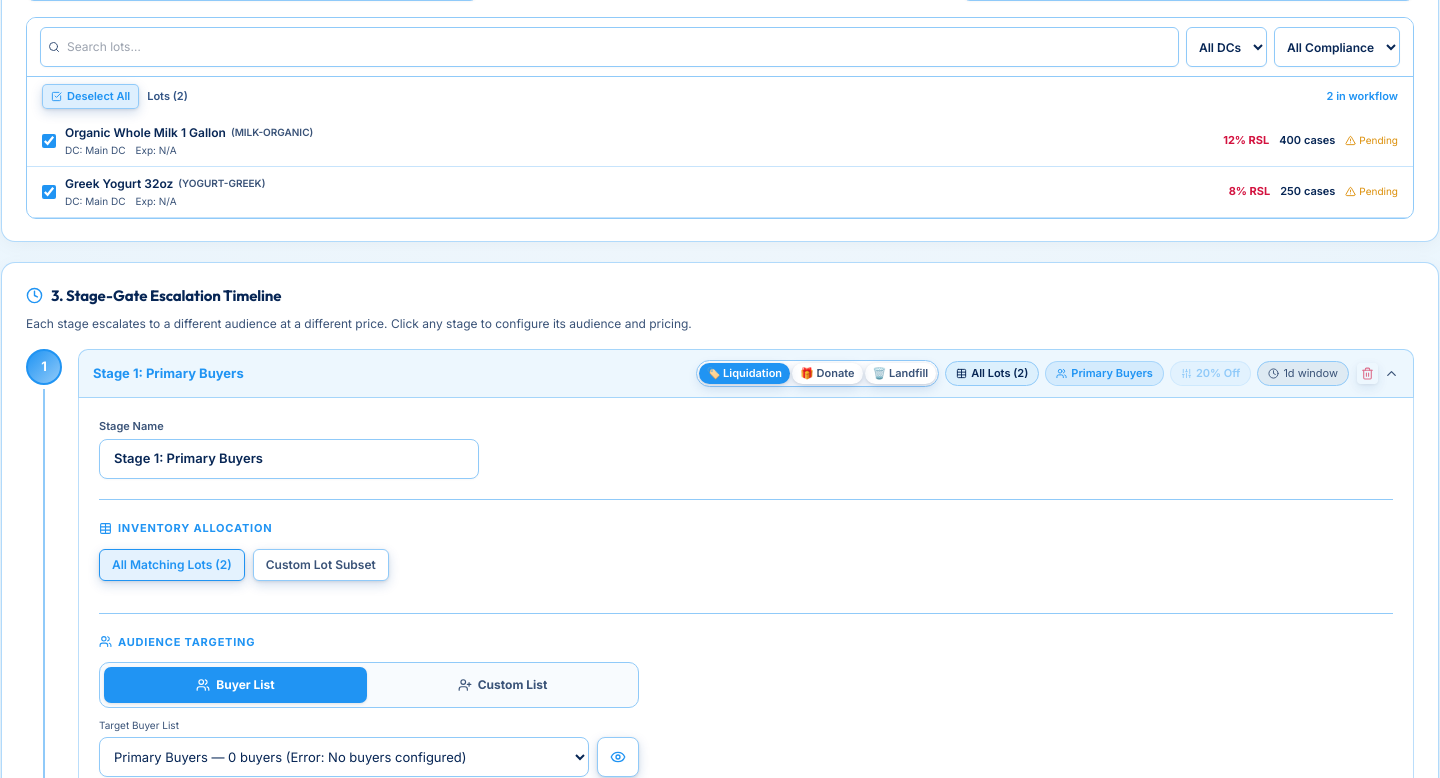
Slice 3: Context-Aware Stage Email Presets & Dynamic Token Interpolation › pre-populates Landfill email template and subject when opening StageEmailModal for a Landfill stage
The image size is (1440, 778).
(page scrolled)
# Switch Stage 1 to Landfill
Click the button with test id "stage-1-type-landfill": [900, 373] box [864,363,936,384]
(page scrolled)
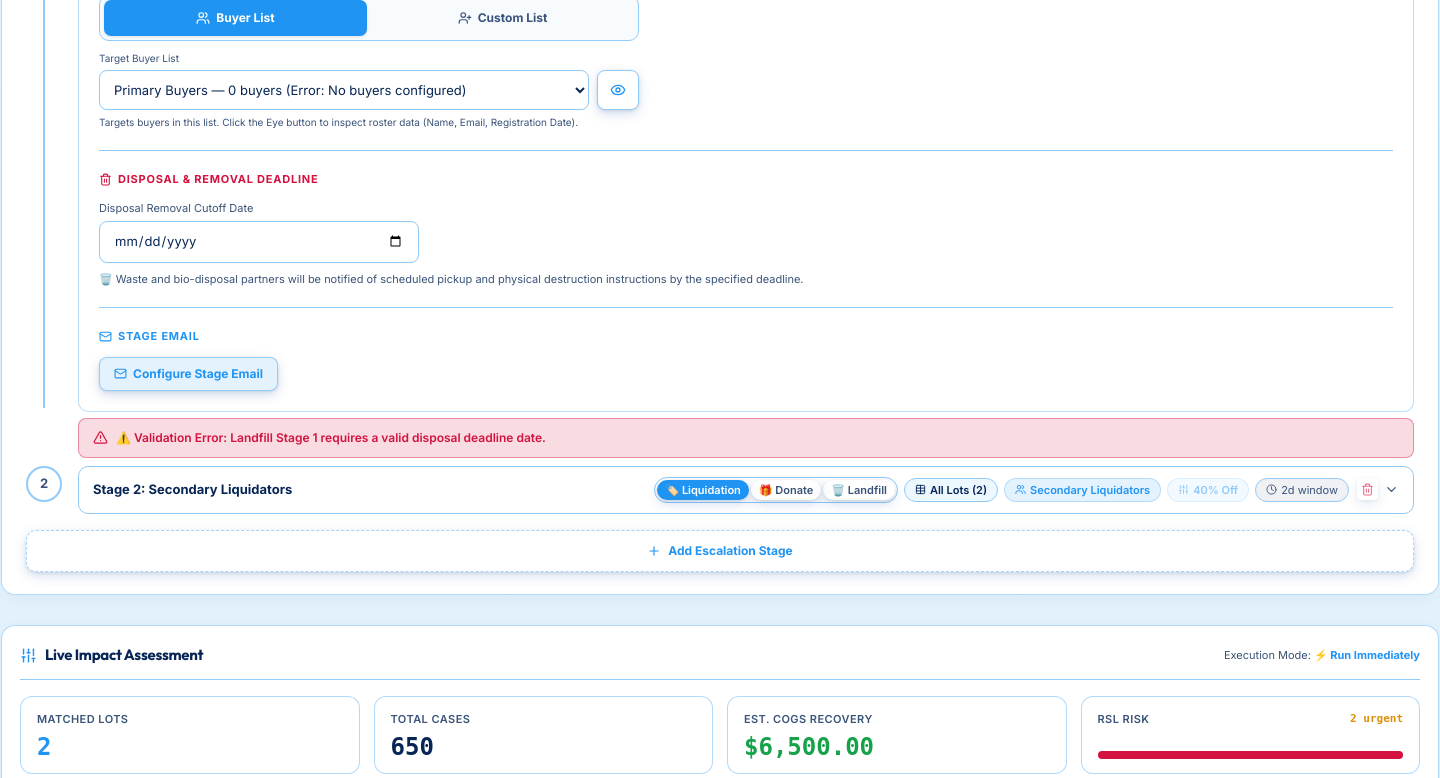
# Stage 1 is expanded by default, open Configure Stage Email modal
Click the button with test id "configure-stage-email-btn-1": [188, 374] box [99,356,278,390]
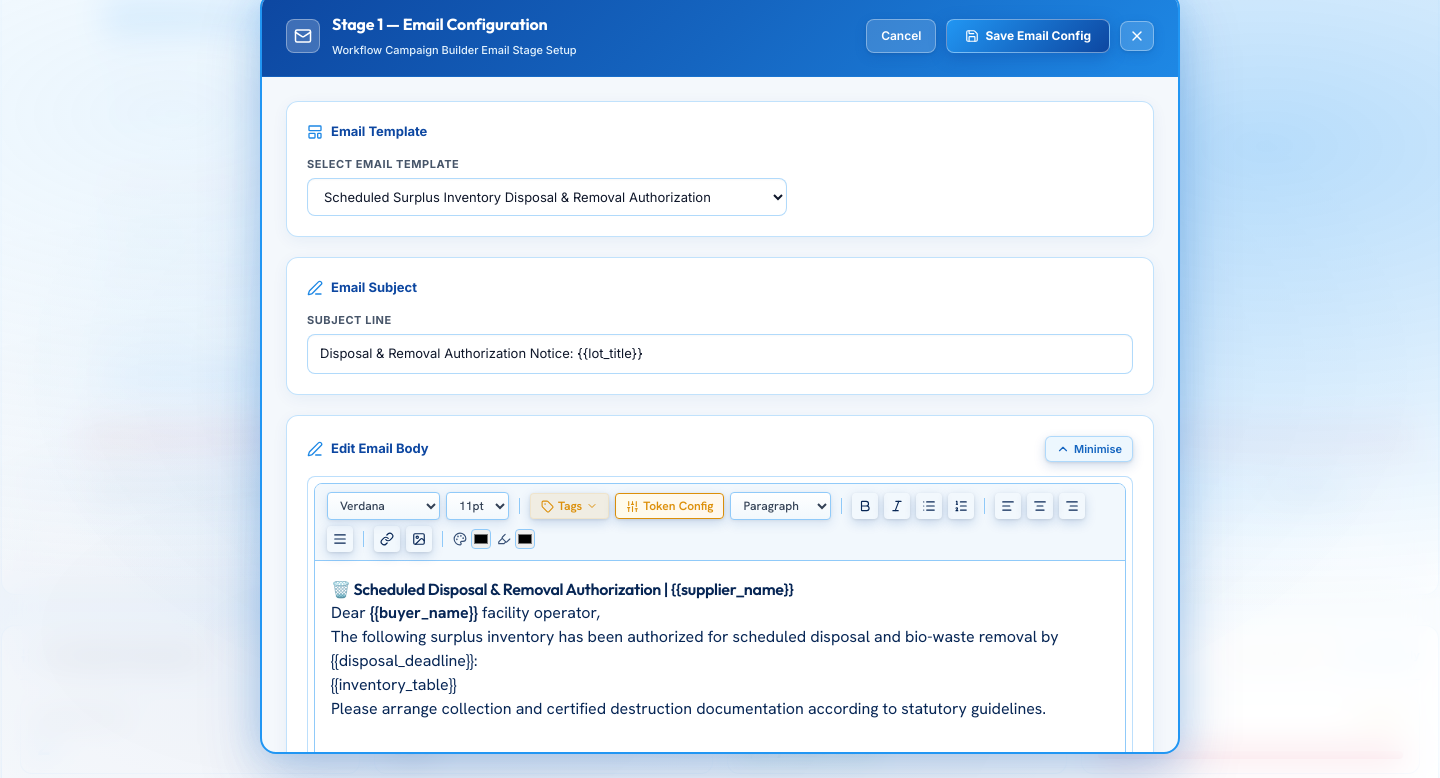
Now the field with test id "stage-modal-subject-input" holds "Disposal & Removal Authorization Notice: {{lot_title}}", box [307,334,1133,374]
